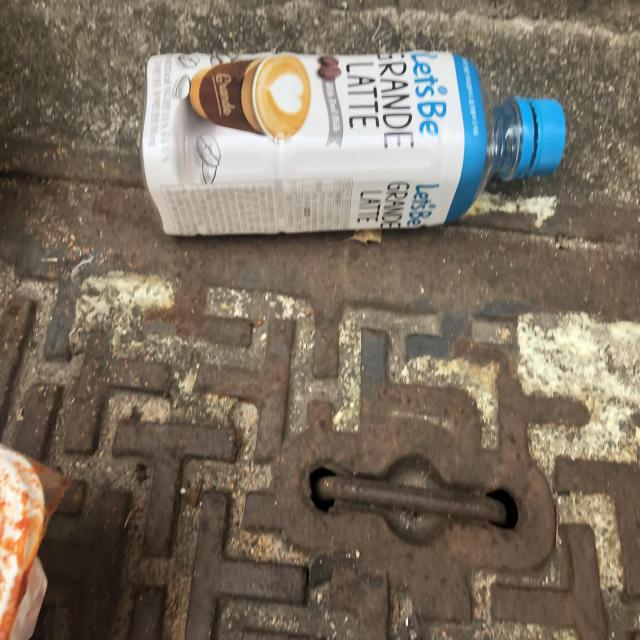plastic: (141, 49, 567, 235)
